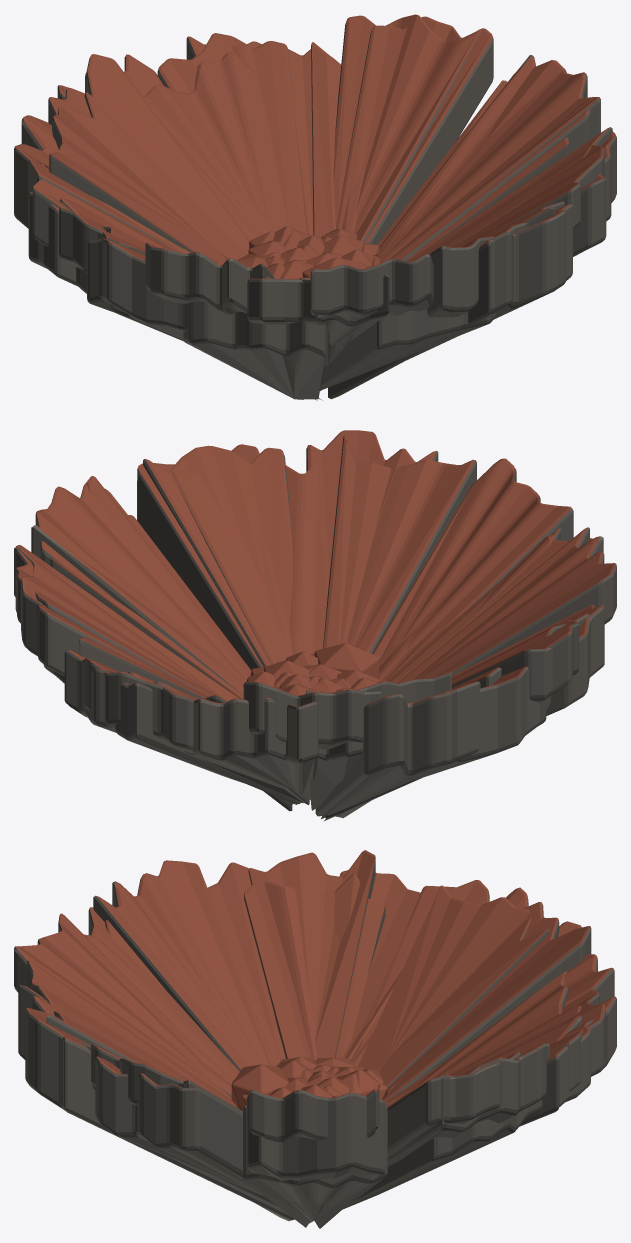
The model's file is ore_node.glb.
3 renders of one model, top to bottom at view 1: azimuth 30°, elevation 25°; view 2: azimuth 150°, elevation 25°; view 3: azimuth 270°, elevation 25°, orthographic.
Parts seen in each view (by area): view 1: OreNode_C_Mesh, OreNode_B_Mesh, OreNode_A_Mesh; view 2: OreNode_C_Mesh, OreNode_B_Mesh, OreNode_A_Mesh; view 3: OreNode_C_Mesh, OreNode_B_Mesh, OreNode_A_Mesh.
Part boxes in pixels (left/top/right/bottom): OreNode_C_Mesh: left=14, top=16, right=616, bottom=400; OreNode_B_Mesh: left=28, top=14, right=612, bottom=400; OreNode_A_Mesh: left=49, top=42, right=591, bottom=399; OreNode_C_Mesh: left=15, top=430, right=616, bottom=819; OreNode_B_Mesh: left=14, top=435, right=604, bottom=811; OreNode_A_Mesh: left=43, top=462, right=571, bottom=821; OreNode_C_Mesh: left=14, top=850, right=616, bottom=1221; OreNode_B_Mesh: left=27, top=862, right=605, bottom=1228; OreNode_A_Mesh: left=76, top=874, right=582, bottom=1227.
Bounding box in the file's own units: 6.46 × 3.15 × 6.52.
